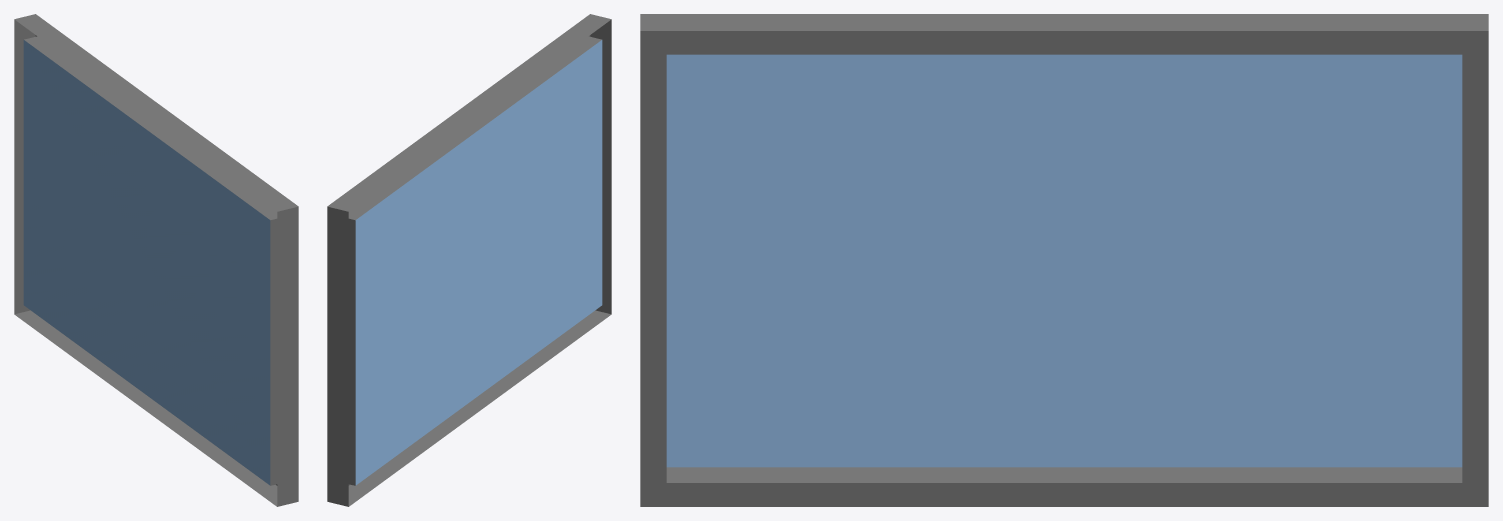
The model's file is P_Window_01.dae.
3 views of the same model, side by side, from view 1: azimuth 30°, elevation 25°; view 2: azimuth 150°, elevation 25°; view 3: azimuth 270°, elevation 25° (orthographic). The views are drawn at different scales.
Parts seen in each view (by area): view 1: Window_01; view 2: Window_01; view 3: Window_01.
Part boxes in pixels (bbox=[...]): Window_01: bbox=[14, 14, 298, 506]; Window_01: bbox=[327, 14, 611, 506]; Window_01: bbox=[640, 14, 1488, 506].
Bounding box in the file's own units: 0.0994 × 2.1 × 1.3.
